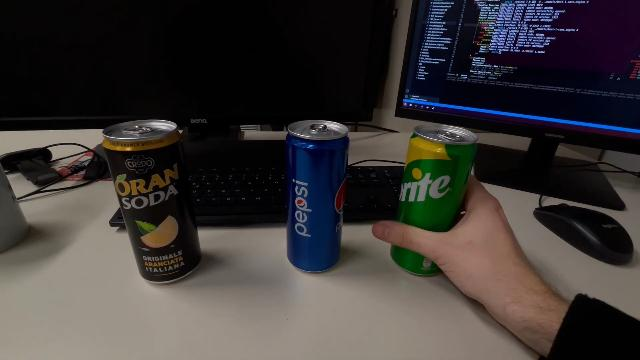OranSoda: (100, 118, 202, 288)
Pepsi: (282, 119, 351, 276)
Sprite: (389, 121, 479, 282)
